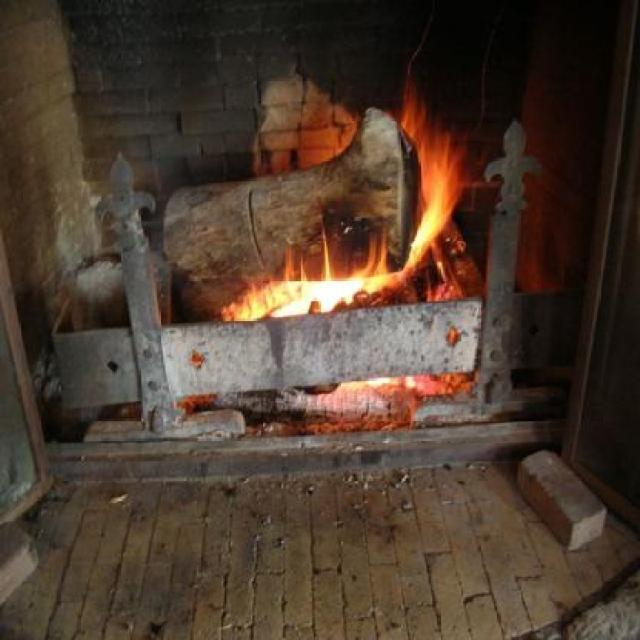Fire: (234, 188, 486, 330)
